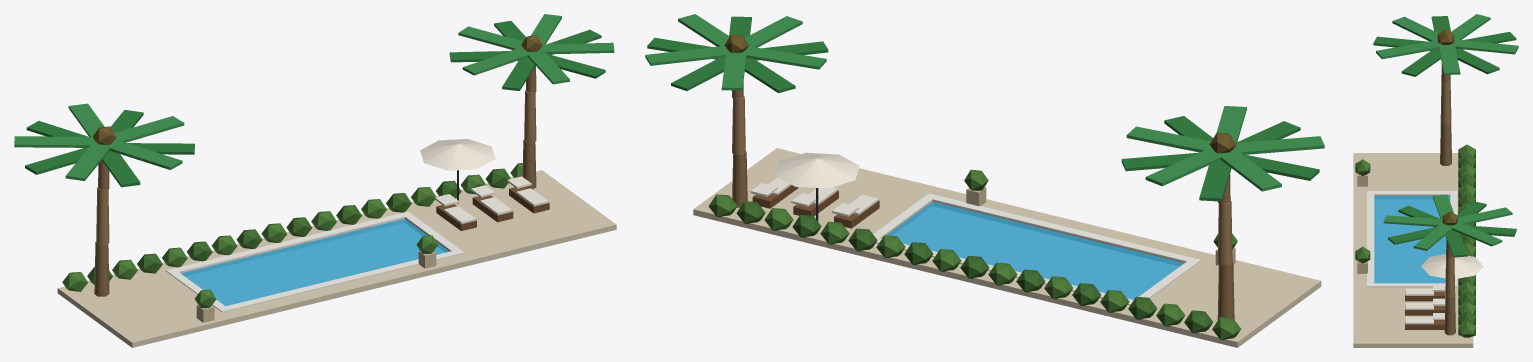
File: poolDeck.glb
The picture shows the model from 3 angles, left to right: view 1: azimuth 30°, elevation 25°; view 2: azimuth 150°, elevation 25°; view 3: azimuth 270°, elevation 25°; orthographic projection. The views are drawn at different scales.
Visible parts, largest first — view 1: poolDeck:plain, poolDeck:leaves, poolDeck:water, poolDeck:trunks; view 2: poolDeck:plain, poolDeck:leaves, poolDeck:water, poolDeck:trunks; view 3: poolDeck:plain, poolDeck:leaves, poolDeck:water, poolDeck:trunks.
Boxes of the visible parts, left/top/right/bottom form: poolDeck:plain: left=57, top=139, right=616, bottom=347; poolDeck:leaves: left=14, top=14, right=614, bottom=308; poolDeck:water: left=181, top=219, right=449, bottom=306; poolDeck:trunks: left=94, top=66, right=536, bottom=296; poolDeck:plain: left=693, top=148, right=1321, bottom=347; poolDeck:leaves: left=645, top=14, right=1324, bottom=339; poolDeck:water: left=887, top=202, right=1184, bottom=299; poolDeck:trunks: left=732, top=81, right=1234, bottom=320; poolDeck:plain: left=1353, top=153, right=1483, bottom=347; poolDeck:leaves: left=1355, top=14, right=1518, bottom=337; poolDeck:water: left=1374, top=196, right=1450, bottom=283; poolDeck:trunks: left=1440, top=63, right=1455, bottom=335.
Bounding box in the file's own units: 25.62 × 7.21 × 7.85.
